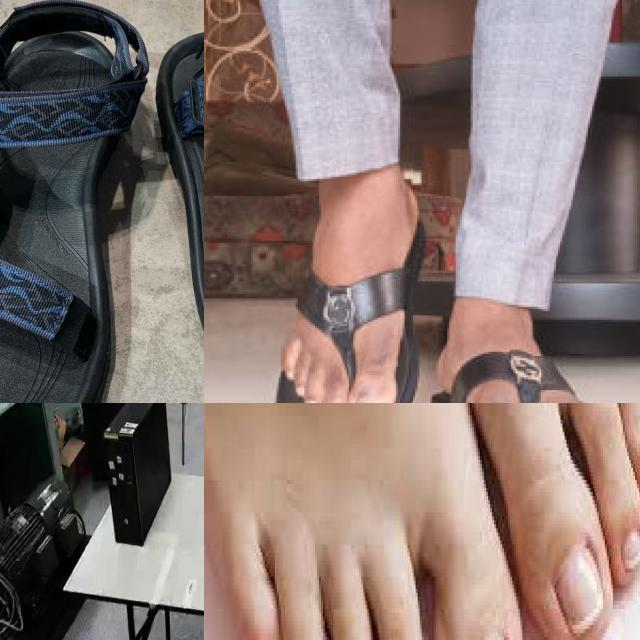Barefoots: (204, 403, 516, 640), (414, 403, 640, 640)
Sandals: (0, 0, 204, 403), (278, 214, 427, 403), (431, 347, 628, 403)
